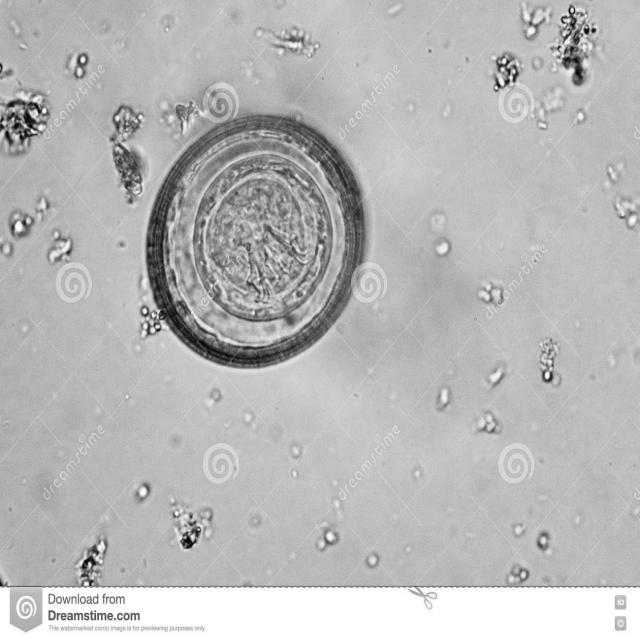Hymenolepis: (140, 109, 372, 378)
